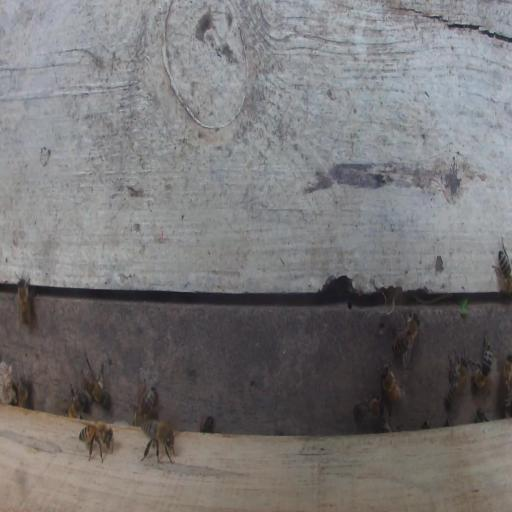bee: (387, 309, 423, 370), (444, 338, 469, 417), (138, 416, 177, 465), (76, 419, 116, 465), (80, 363, 110, 411), (380, 363, 407, 413), (469, 334, 493, 389), (12, 269, 32, 329), (130, 382, 158, 424), (60, 380, 87, 420), (353, 391, 385, 423), (498, 245, 512, 292), (16, 374, 31, 407)
